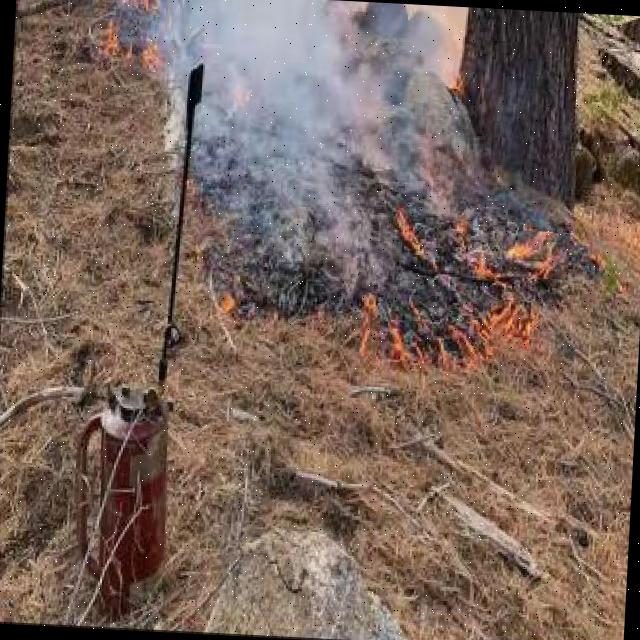fire: (502, 230, 570, 280), (489, 300, 531, 350), (442, 322, 473, 381), (389, 307, 419, 361), (99, 16, 132, 56), (359, 294, 378, 357), (140, 38, 170, 72), (218, 288, 242, 308)
